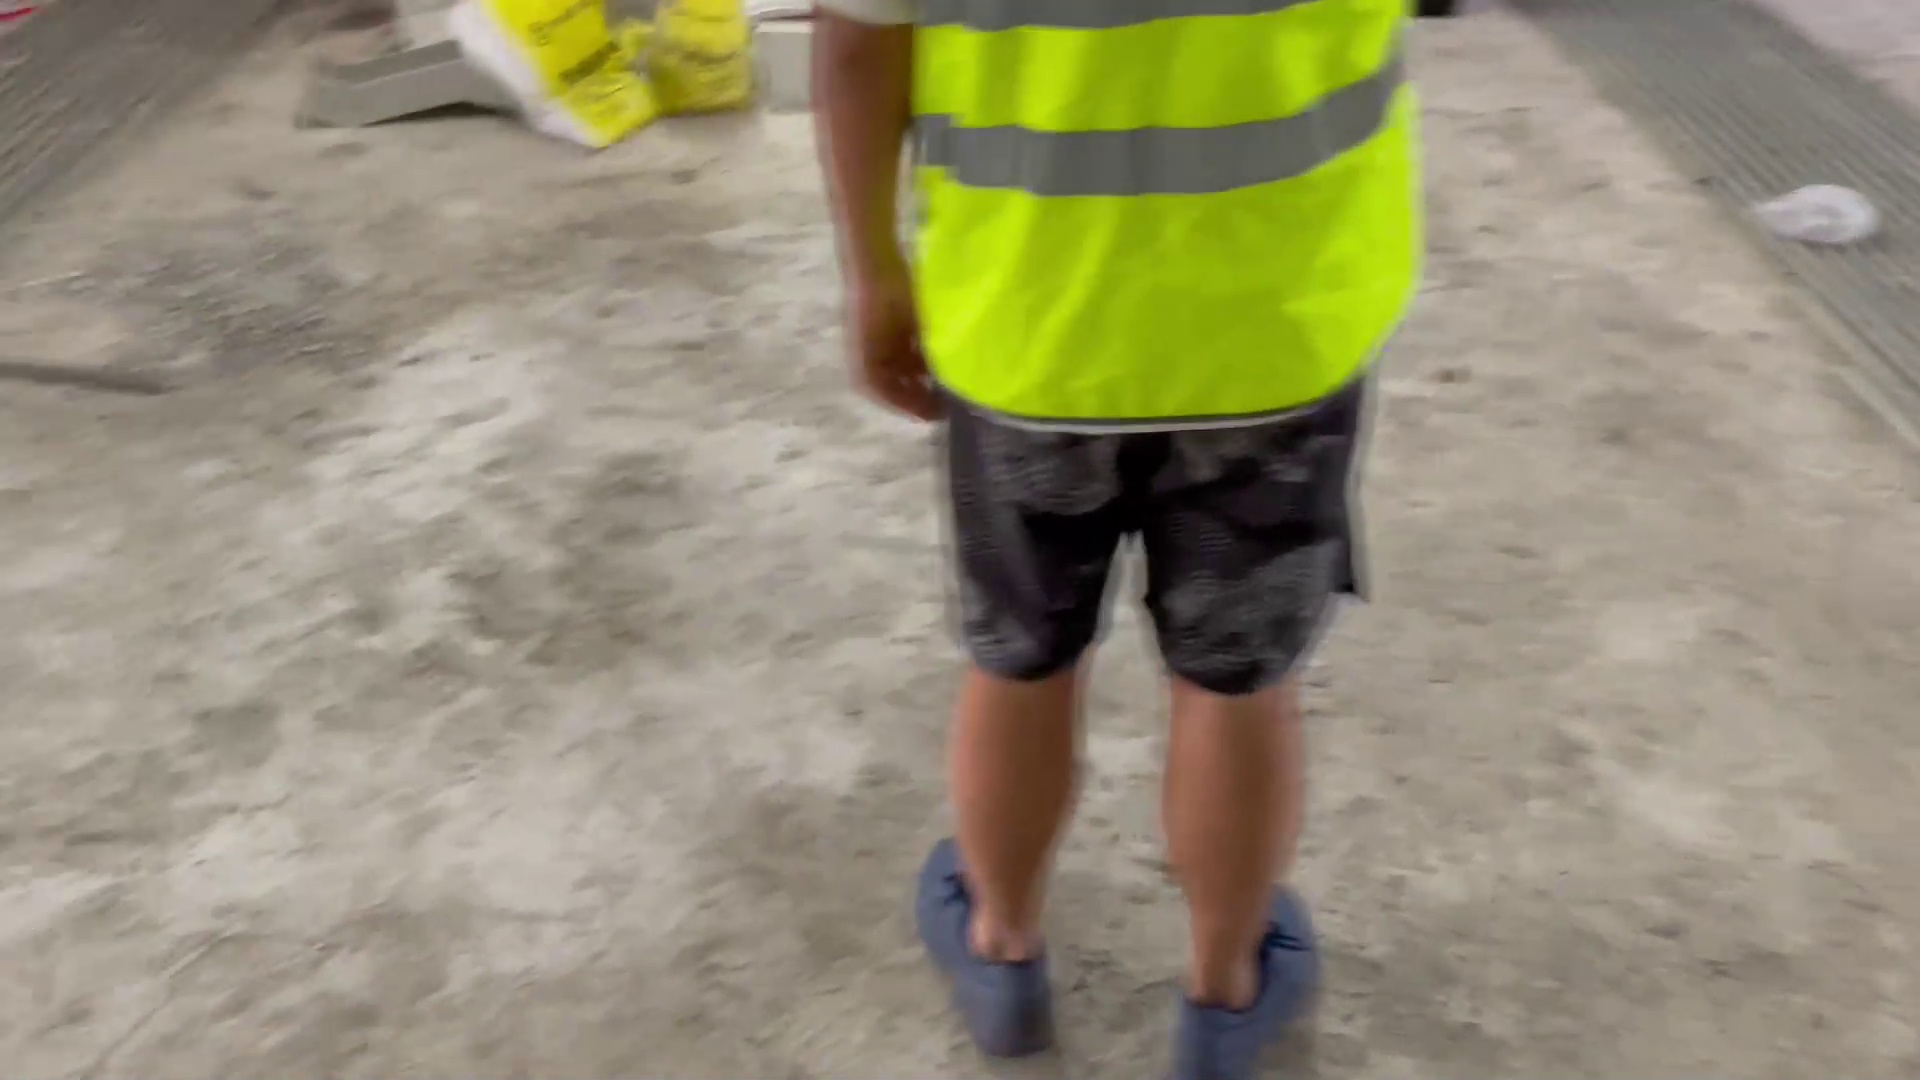person: (803, 1, 1367, 1061)
vest: (888, 1, 1431, 413)
